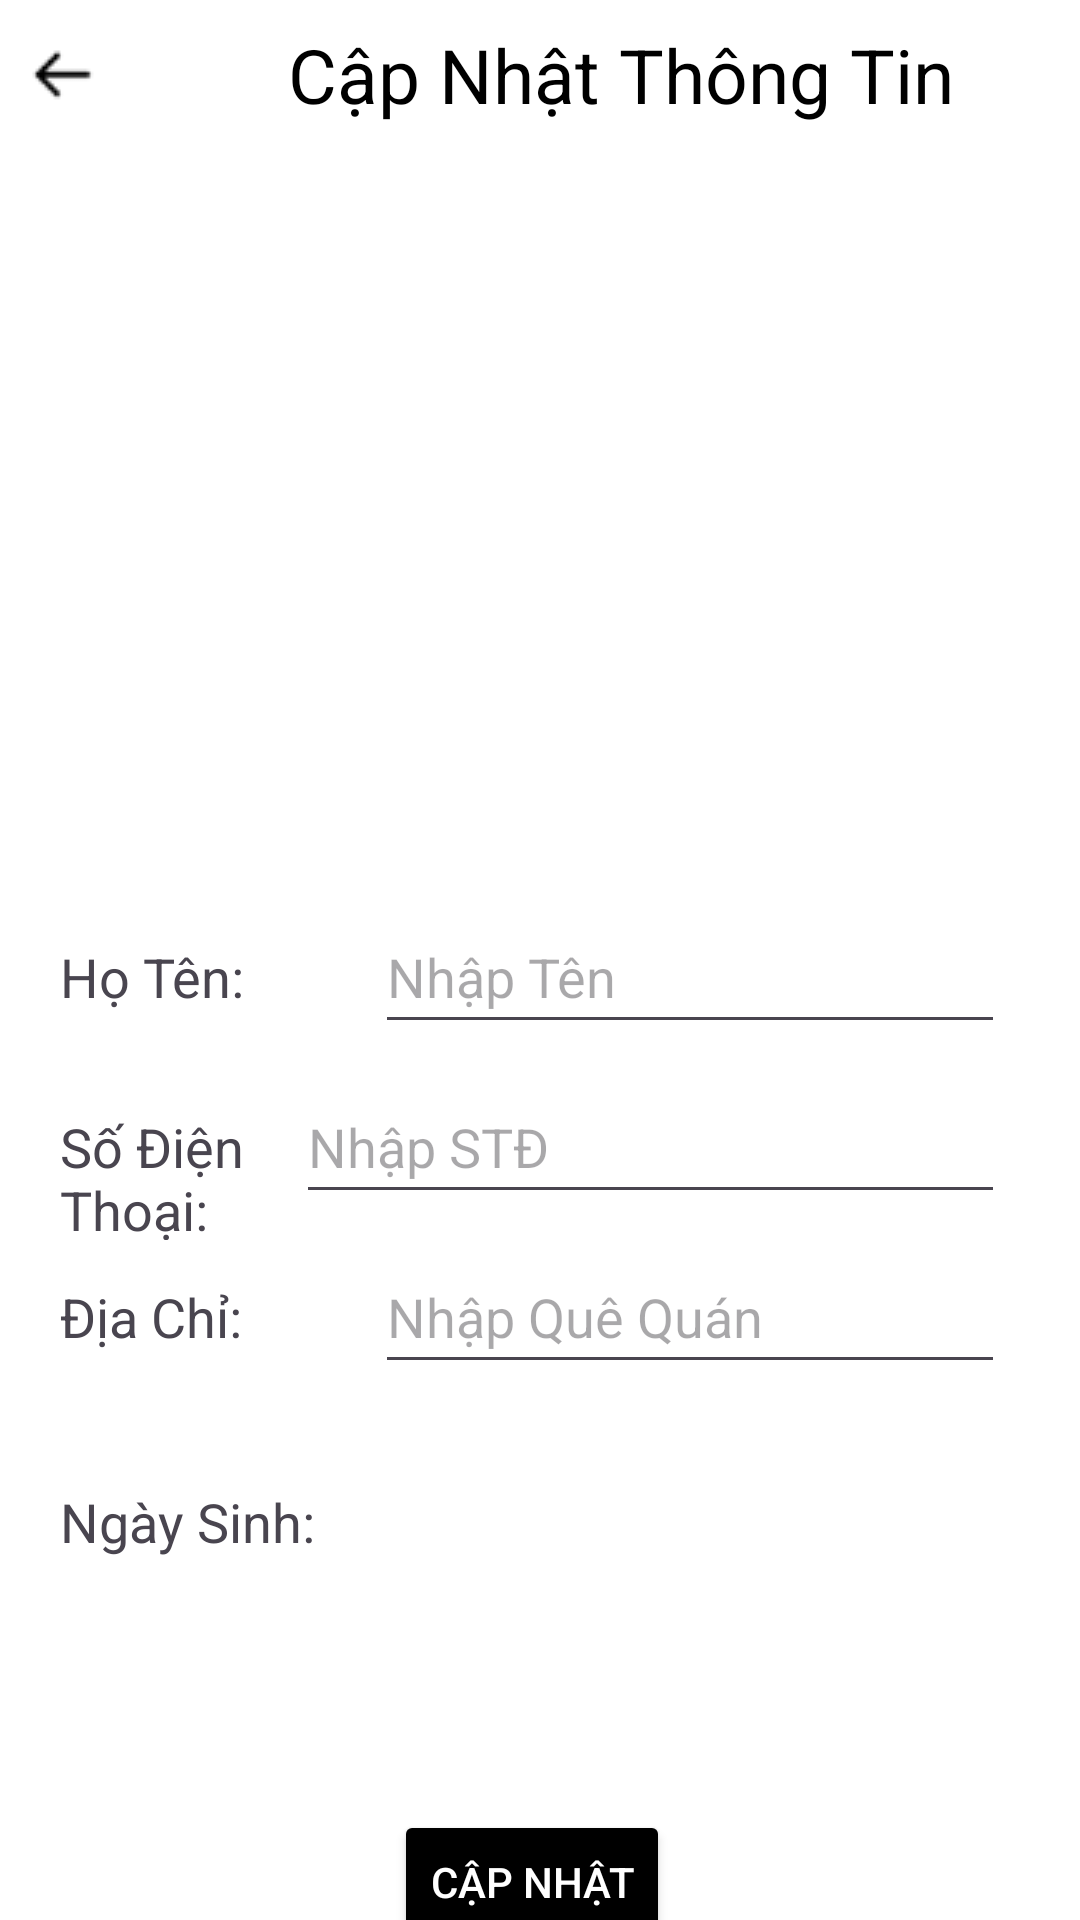

Locate icon controls on the screen. Image size 1080*1920, boxes as (x1, y1, x2, y2).
arrow: (34, 51, 91, 98)
